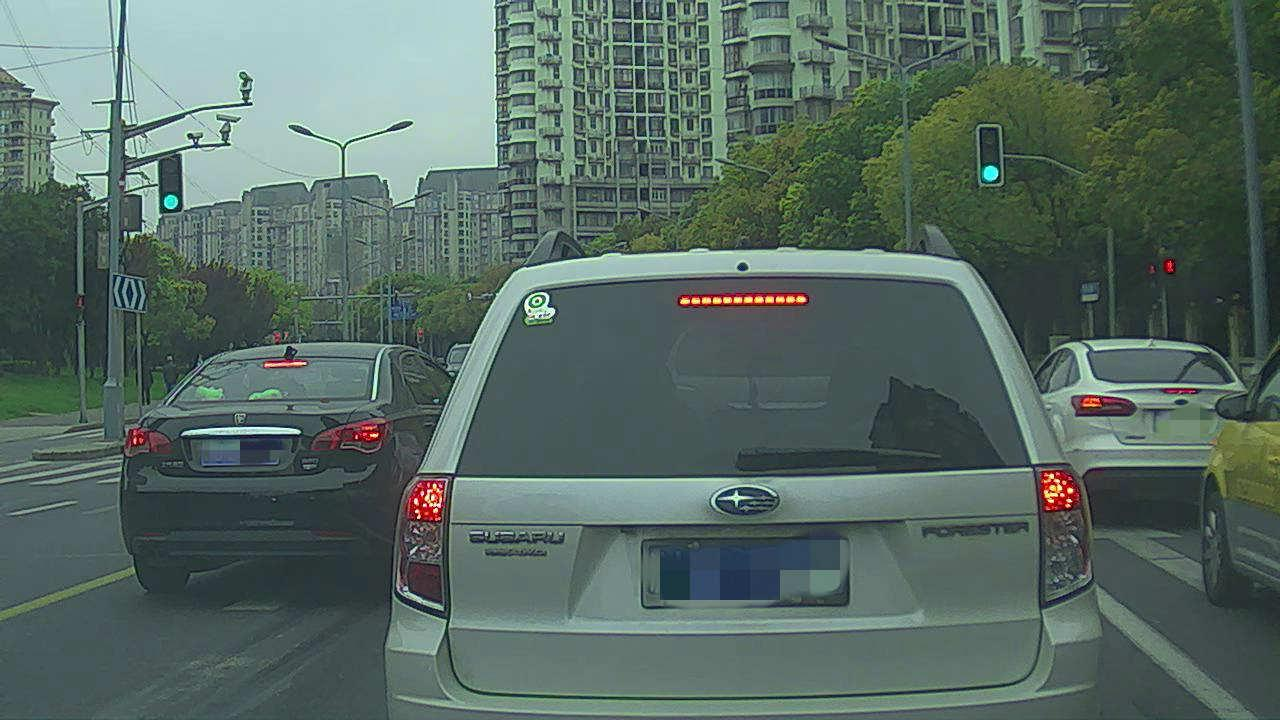traffic_light: (161, 153, 185, 215), (977, 127, 1002, 186)
